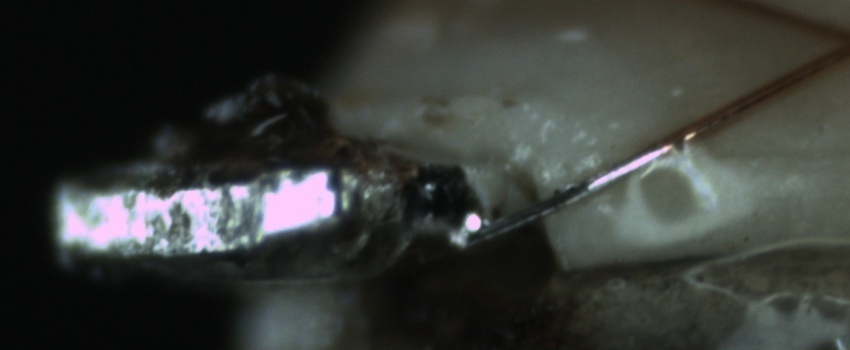CL: (804, 14, 850, 75)
DL: (692, 124, 850, 184)
TS: (467, 137, 674, 250)
